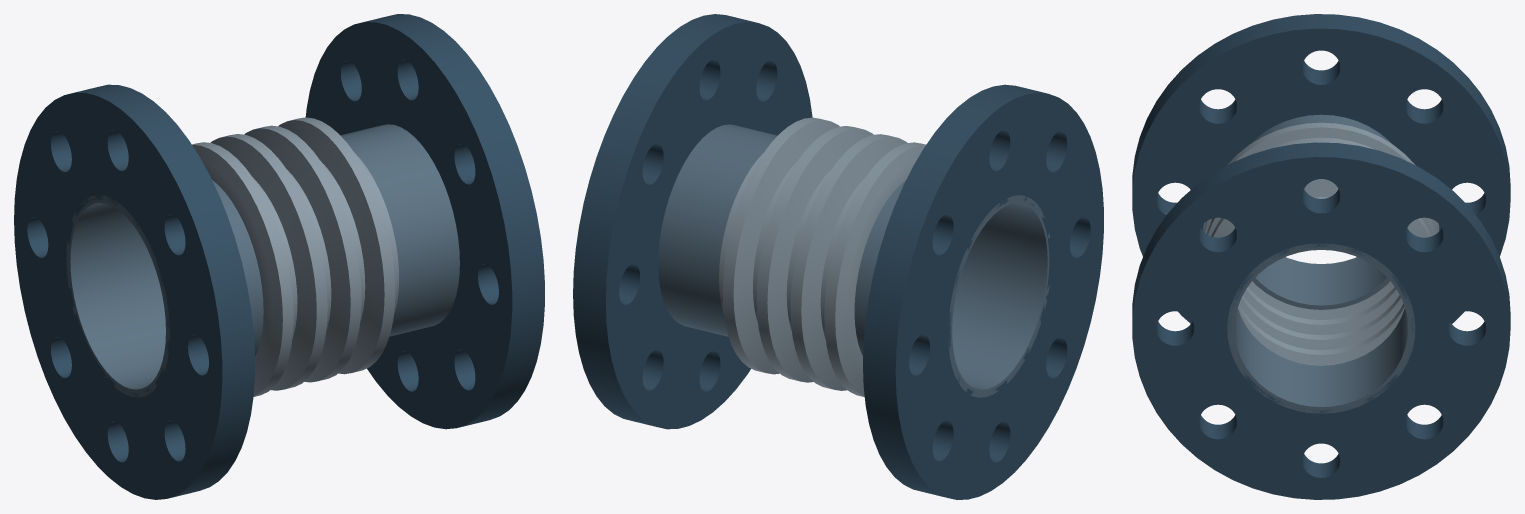
Rendered from silf-dn80-L160-D89-f.glb.
3 renders of one model, left to right at view 1: azimuth 30°, elevation 25°; view 2: azimuth 150°, elevation 25°; view 3: azimuth 270°, elevation 25°, orthographic. The views are drawn at different scales.
Parts seen in each view (by area): view 1: homut_flanec_1, homut_flanec_2, prokladka_silfon_1, patrubok_1, patrubok_2; view 2: homut_flanec_1, homut_flanec_2, prokladka_silfon_1, patrubok_1, patrubok_2; view 3: homut_flanec_2, homut_flanec_1, prokladka_silfon_1, patrubok_2, patrubok_1.
Boxes of the visible parts, x1=… form: homut_flanec_1: x1=14, y1=84, x2=254, y2=499; homut_flanec_2: x1=305, y1=14, x2=544, y2=429; prokladka_silfon_1: x1=192, y1=117, x2=399, y2=396; patrubok_1: x1=66, y1=180, x2=263, y2=397; patrubok_2: x1=340, y1=124, x2=459, y2=336; homut_flanec_1: x1=863, y1=84, x2=1103, y2=499; homut_flanec_2: x1=573, y1=14, x2=812, y2=429; prokladka_silfon_1: x1=719, y1=117, x2=925, y2=396; patrubok_1: x1=854, y1=180, x2=1050, y2=397; patrubok_2: x1=658, y1=124, x2=777, y2=336; homut_flanec_2: x1=1132, y1=142, x2=1510, y2=499; homut_flanec_1: x1=1132, y1=14, x2=1510, y2=323; prokladka_silfon_1: x1=1203, y1=122, x2=1439, y2=365; patrubok_2: x1=1227, y1=243, x2=1415, y2=413; patrubok_1: x1=1251, y1=114, x2=1391, y2=309.
Size of the model in its own units: 160 by 179 by 179.
